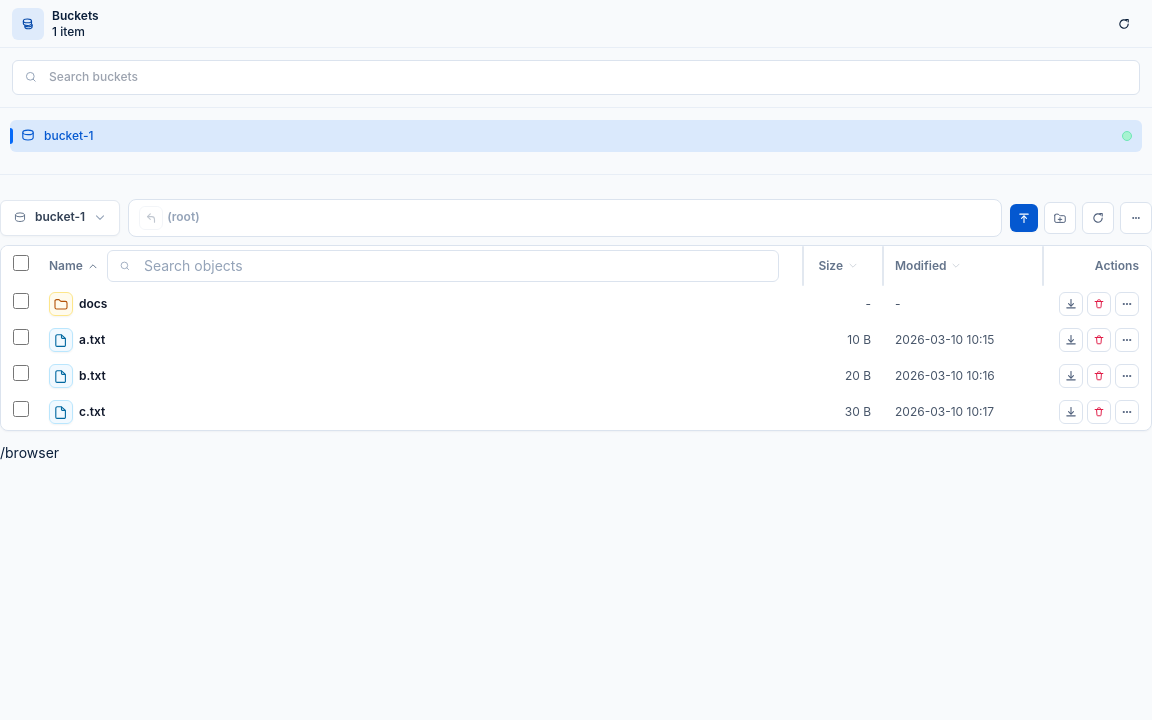
Test: BrowserPage interactions › exposes direct Download and Delete actions in the standard profile without selecting the row
Expected: the checkbox named "Select a.txt" is not checked, [13, 329, 29, 345]
Click the button named "Download a.txt": coordinates (1071, 340) [1059, 328, 1083, 352]
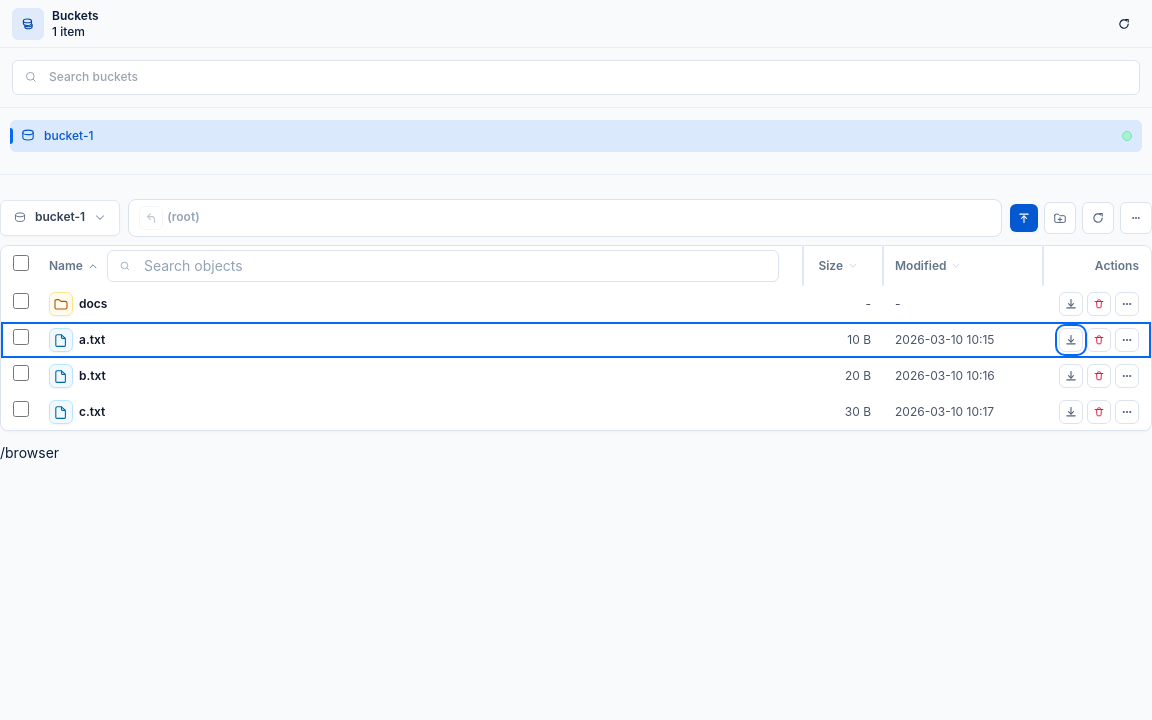
Expected: the checkbox named "Select a.txt" is not checked, [13, 329, 29, 345]
Click the button named "Delete a.txt": coordinates (1099, 340) [1087, 328, 1111, 352]
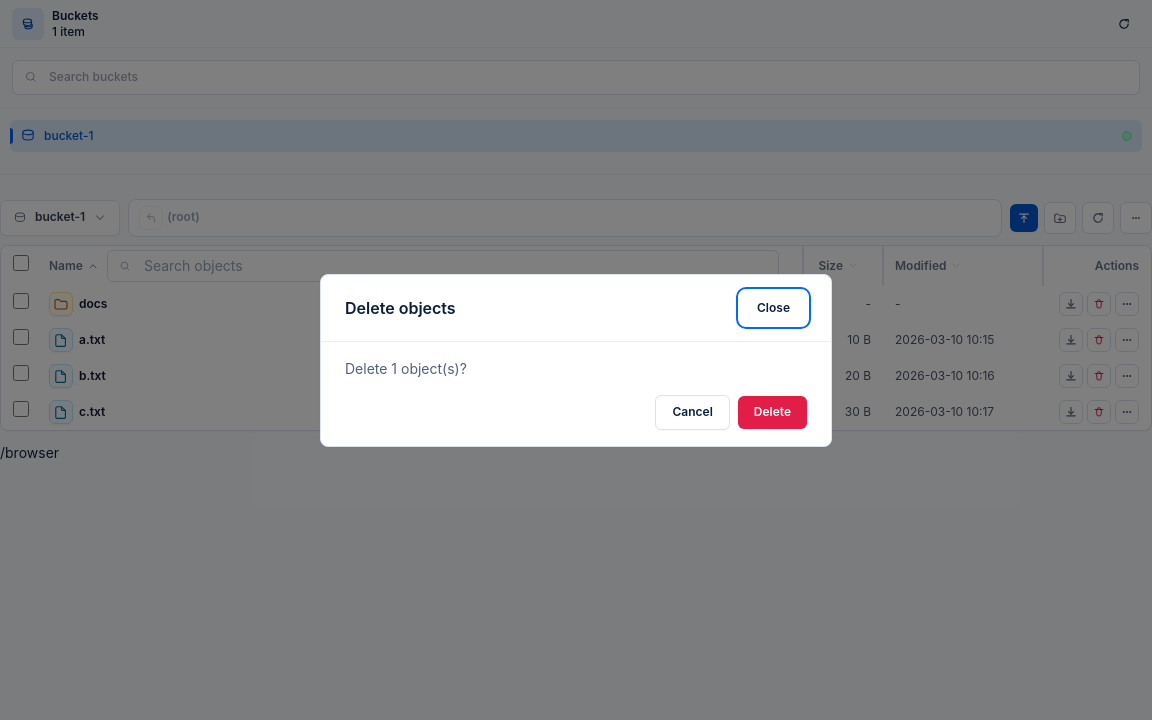
Expected: the checkbox named "Select a.txt" is not checked, [13, 329, 29, 345]
Expected: the dialog "Delete objects" is shown, [320, 274, 832, 446]
Click the button "Cancel": coordinates (693, 412) [656, 395, 730, 430]
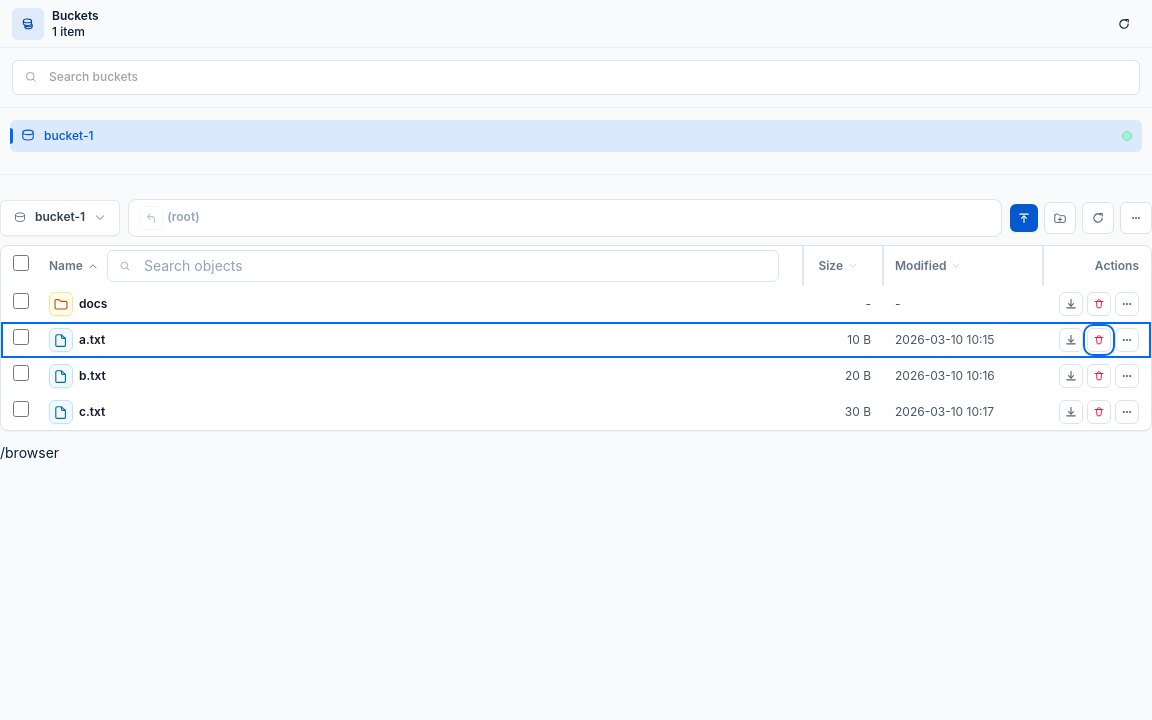
Click the button named "More actions for a.txt": coordinates (1127, 340) [1115, 328, 1139, 352]
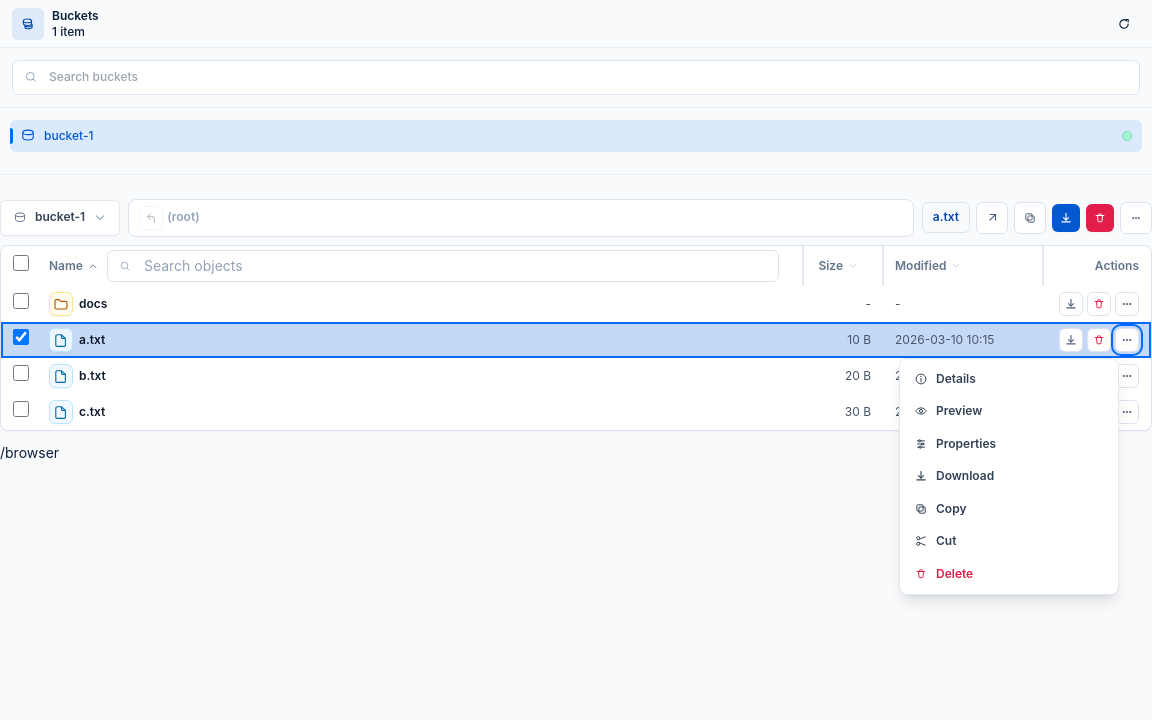
Expected: the button "Download" is shown, [904, 460, 1114, 492]
Expected: the button "Delete" is shown, [904, 558, 1114, 590]
